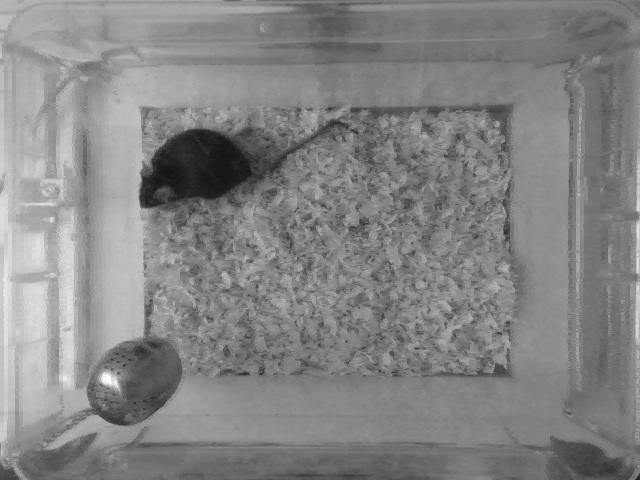mice: (137, 113, 360, 212)
